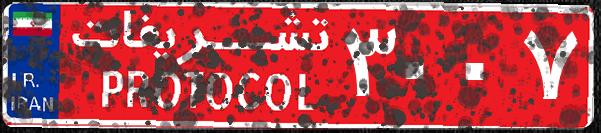0: (400, 20, 460, 115), (460, 20, 520, 115)
3: (340, 20, 400, 115)
7: (520, 20, 580, 115)
تشریفات: (60, 8, 340, 125)
